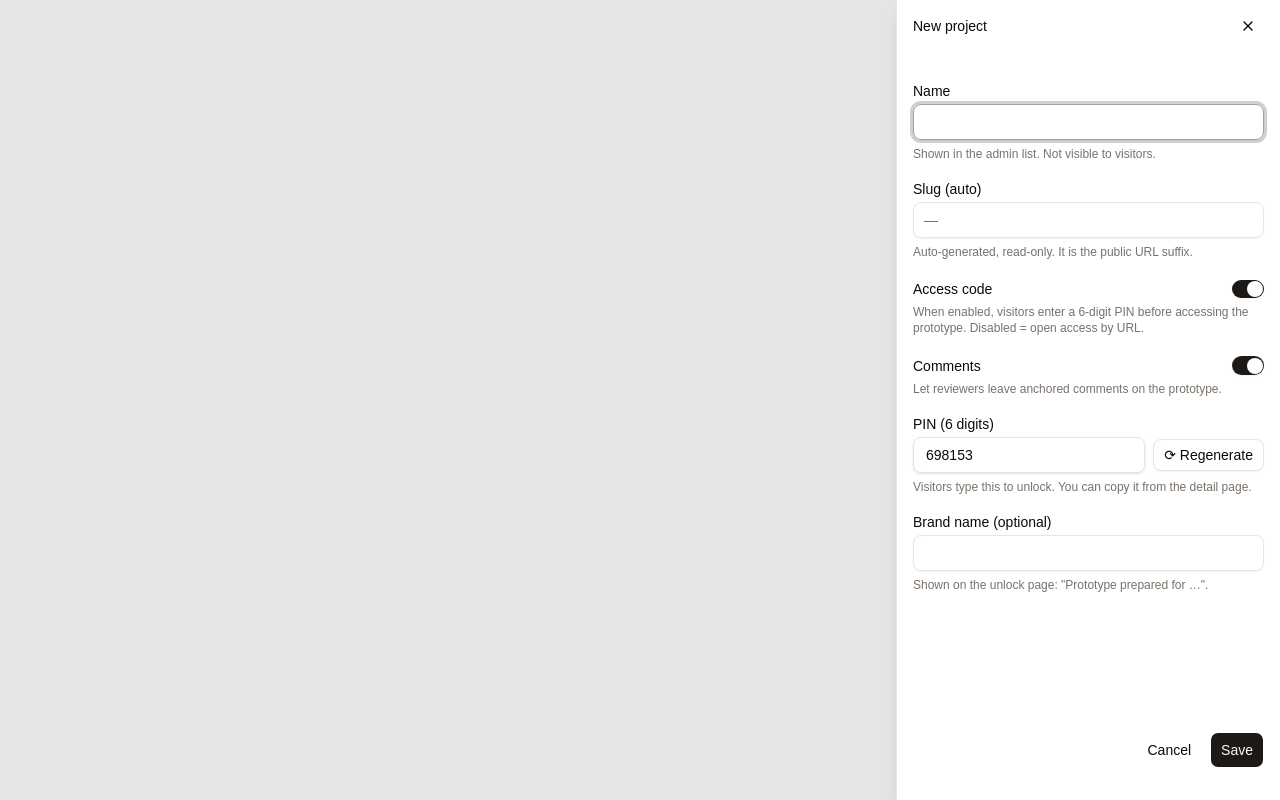
Test case: ProjectForm — validation › keeps the PIN field rendered but disabled when code is toggled off
The width and height of the screenshot is (1280, 800).
Expected: the field named "PIN (6 digits)" is enabled, [913,437,1145,473]
// Toggle the access-code switch OFF.
Click the switch named "access code" in the row of "Access code".
click(1248, 289)  # box [1232,280,1264,298]
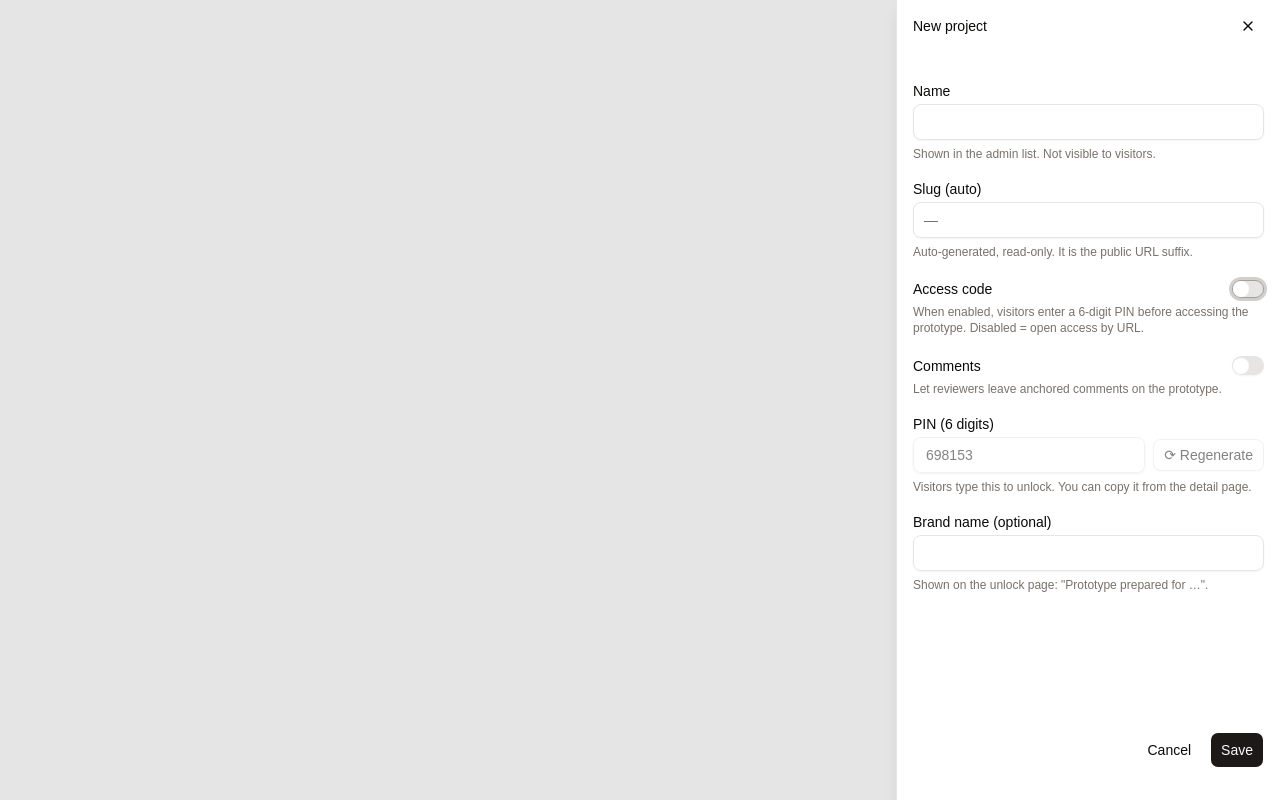
Expected: the field named "PIN (6 digits)" is disabled, [913,437,1145,473]
